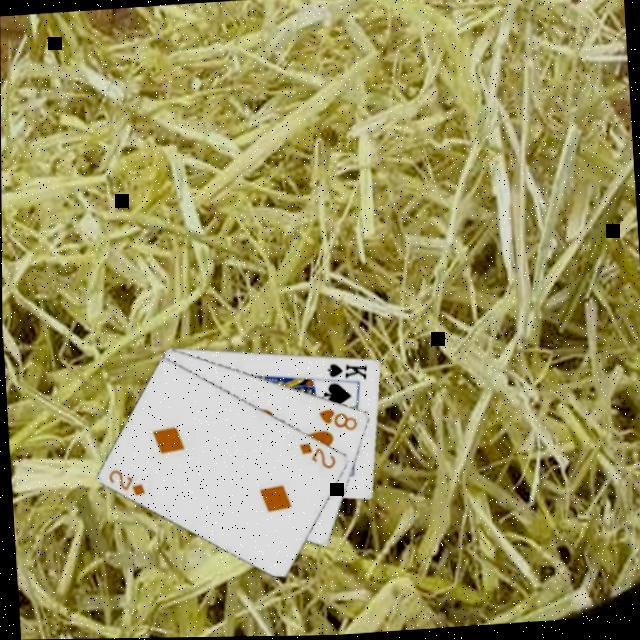2D: (294, 437, 338, 474), (104, 464, 148, 499)
8H: (314, 403, 359, 436)
KS: (322, 358, 369, 385)
